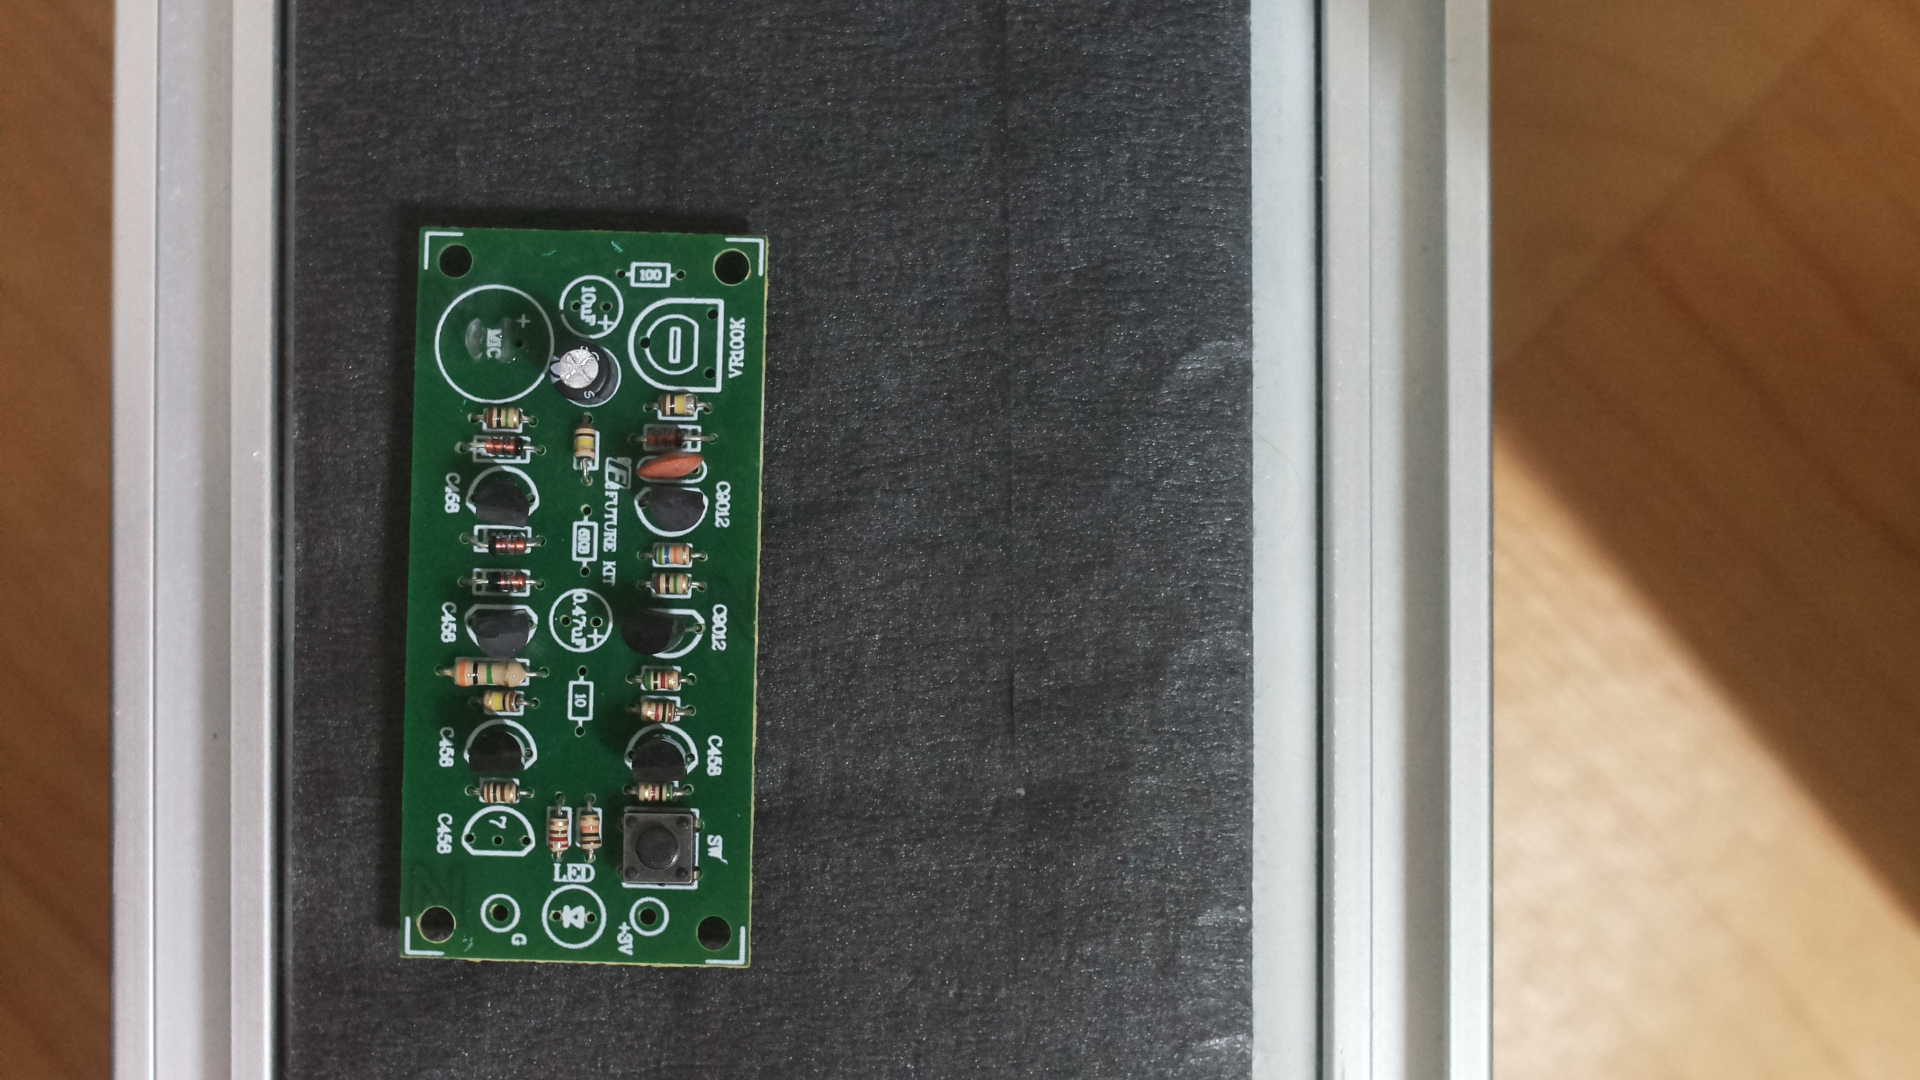A_Missing_part: (390, 203, 785, 1002)
